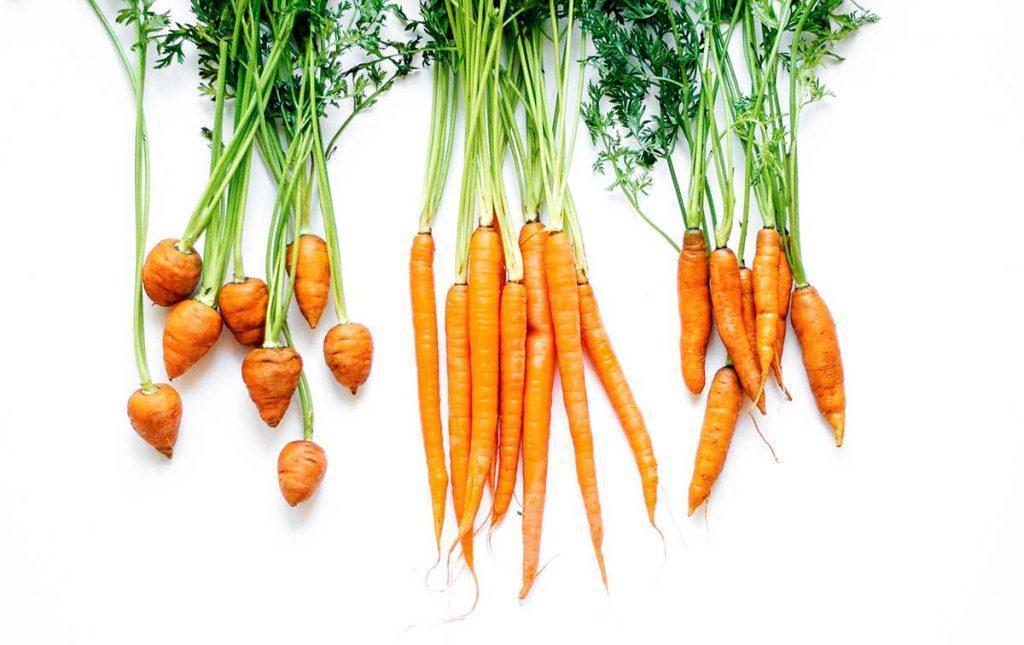carrot: (122, 1, 846, 581), (402, 15, 644, 583), (639, 23, 866, 521), (459, 222, 657, 573), (627, 16, 890, 263), (128, 237, 374, 501), (684, 219, 861, 522), (395, 241, 446, 572), (441, 284, 474, 562), (279, 236, 345, 337), (324, 314, 381, 411), (135, 241, 221, 305), (158, 307, 226, 387), (241, 340, 305, 424), (131, 375, 188, 457), (278, 427, 328, 511), (221, 275, 275, 347)
